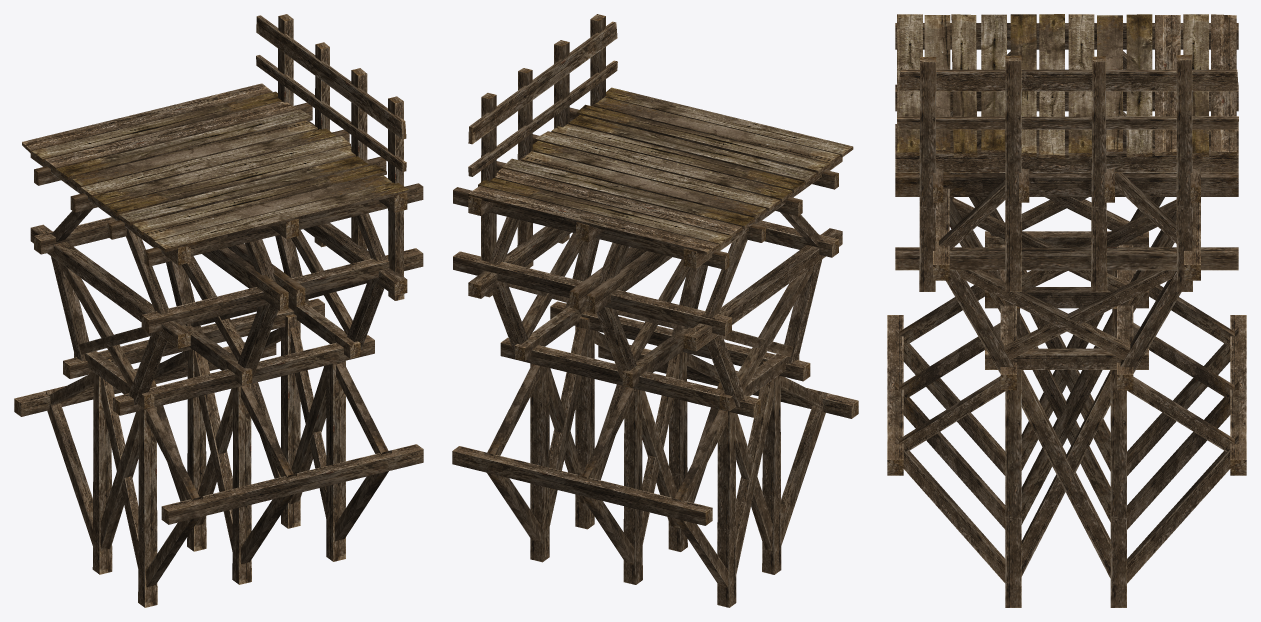
File: WoodBridgeSupportRight.dae
3 renders of one model, left to right at view 1: azimuth 30°, elevation 25°; view 2: azimuth 150°, elevation 25°; view 3: azimuth 270°, elevation 25°, orthographic. The views are drawn at different scales.
Parts seen in each view (by area): view 1: WoodBridgeSupportRight; view 2: WoodBridgeSupportRight; view 3: WoodBridgeSupportRight.
Boxes of the visible parts, x1,y1,x2,y2 form: WoodBridgeSupportRight: (14,14,423,607); WoodBridgeSupportRight: (452,14,858,607); WoodBridgeSupportRight: (887,14,1246,607).
Size of the model in its own units: 4.3 by 7.21 by 4.19.
Materials: 1 (1 with a texture image).
